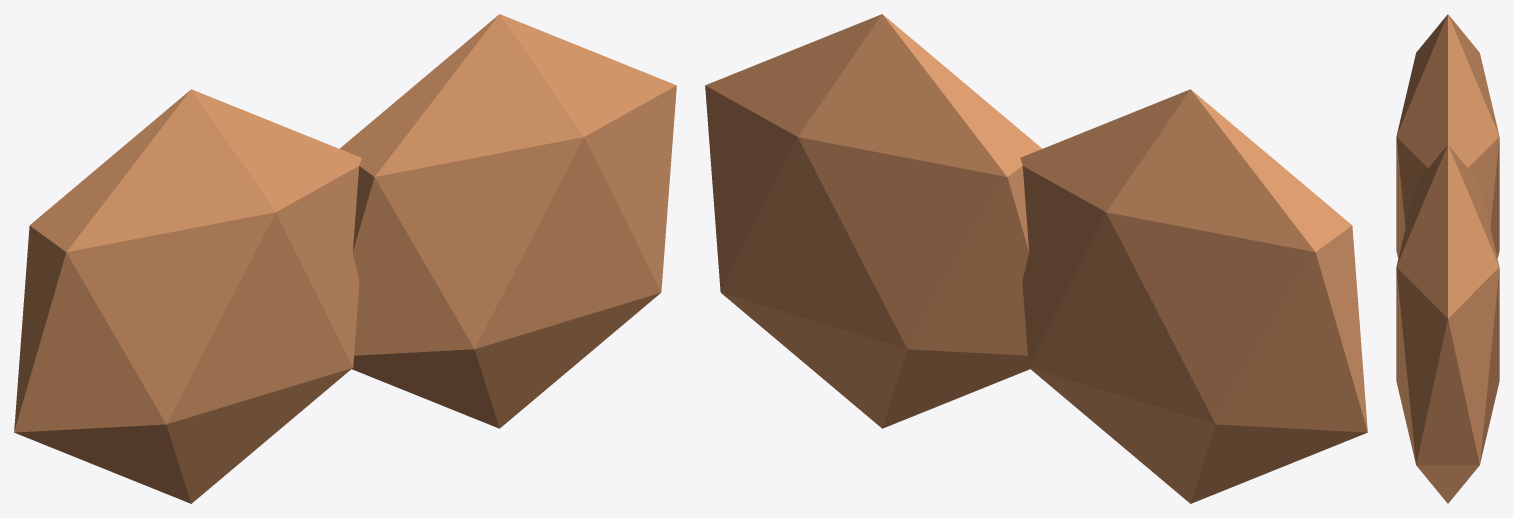
The model's file is wk_soft_tissue_chest_v01.glb.
3 renders of one model, left to right at view 1: azimuth 30°, elevation 25°; view 2: azimuth 150°, elevation 25°; view 3: azimuth 270°, elevation 25°, orthographic. The views are drawn at different scales.
Visible parts, largest first — view 1: GEO_SoftTissueChest-1, GEO_SoftTissueChest+1; view 2: GEO_SoftTissueChest-1, GEO_SoftTissueChest+1; view 3: GEO_SoftTissueChest+1, GEO_SoftTissueChest-1.
Boxes of the visible parts, x1,y1,x2,y2 form: GEO_SoftTissueChest-1: [14, 89, 361, 503]; GEO_SoftTissueChest+1: [339, 14, 676, 428]; GEO_SoftTissueChest-1: [1020, 89, 1367, 503]; GEO_SoftTissueChest+1: [705, 14, 1042, 428]; GEO_SoftTissueChest+1: [1396, 145, 1499, 503]; GEO_SoftTissueChest-1: [1396, 14, 1499, 258].
Size of the model in its own units: 0.602 by 0.36 by 0.0936.
